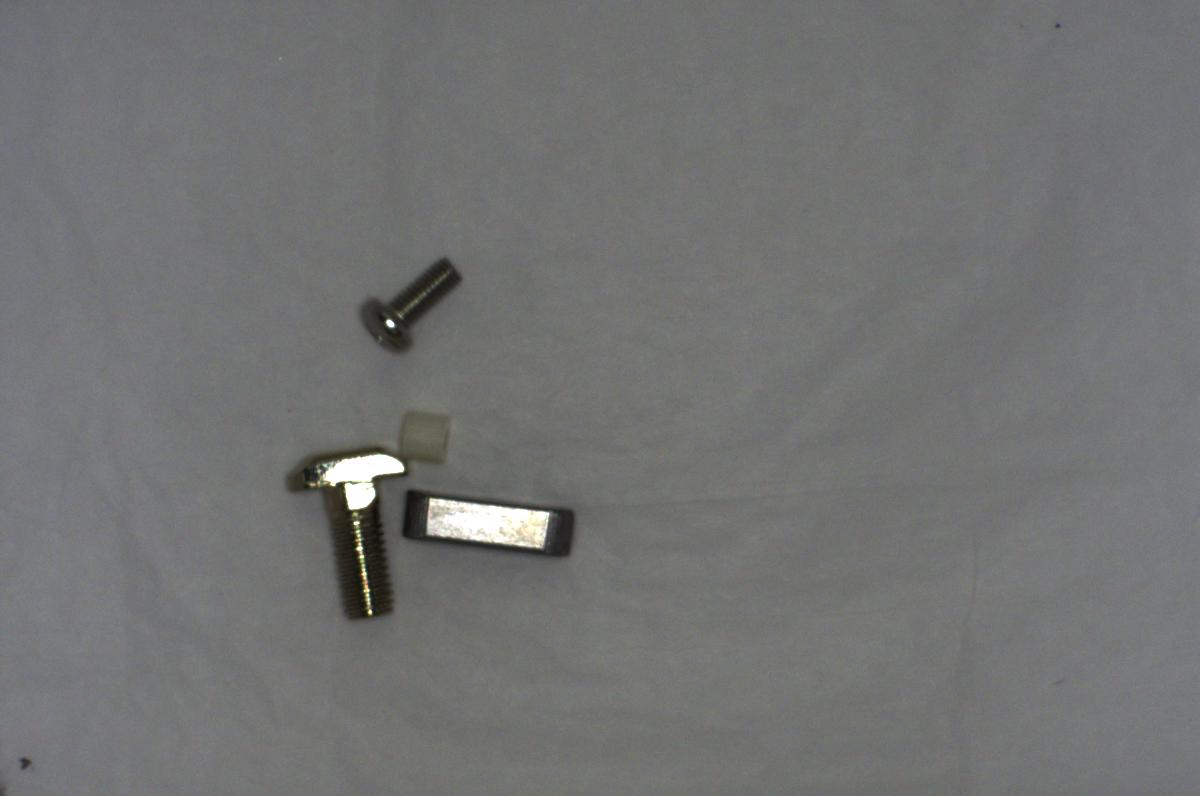Keybar: (395, 473, 586, 563)
Plastic cushion pillar: (384, 398, 461, 466)
Round head screw: (345, 241, 468, 360)
T-shaped screw: (275, 438, 413, 627)
